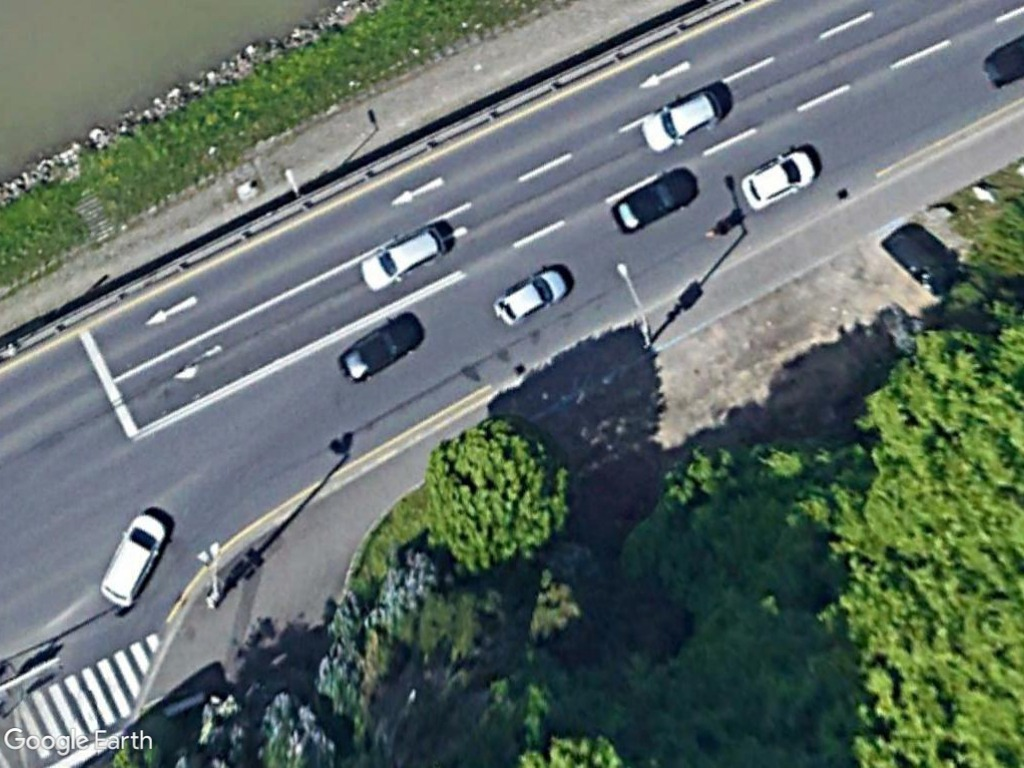car: (98, 508, 174, 614), (335, 309, 428, 386), (357, 222, 454, 295), (608, 164, 701, 237), (636, 84, 729, 156), (489, 260, 575, 332), (736, 144, 820, 210)
